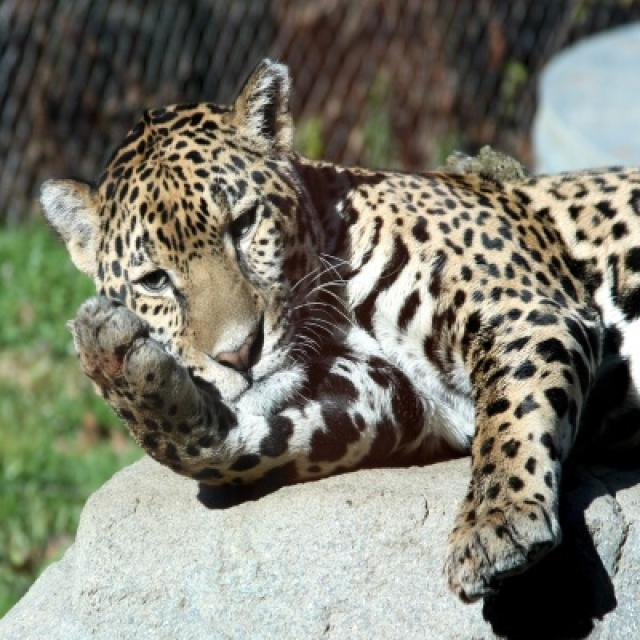Jaguar: (40, 61, 638, 638)
